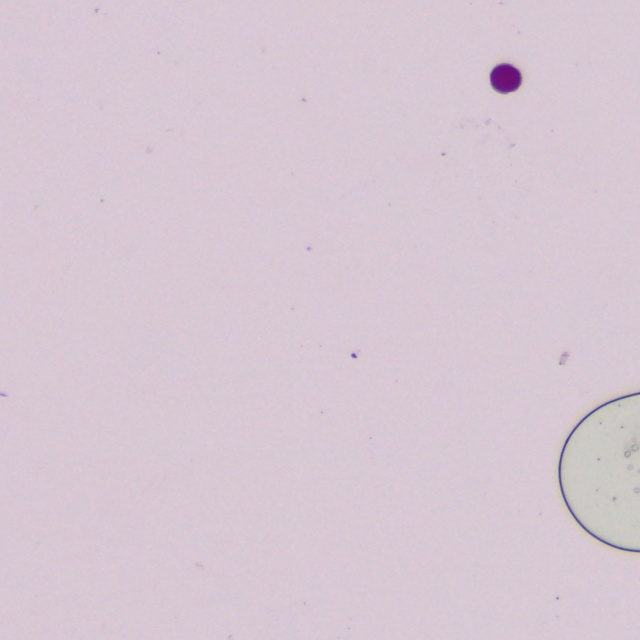viable: (491, 64, 521, 93)
